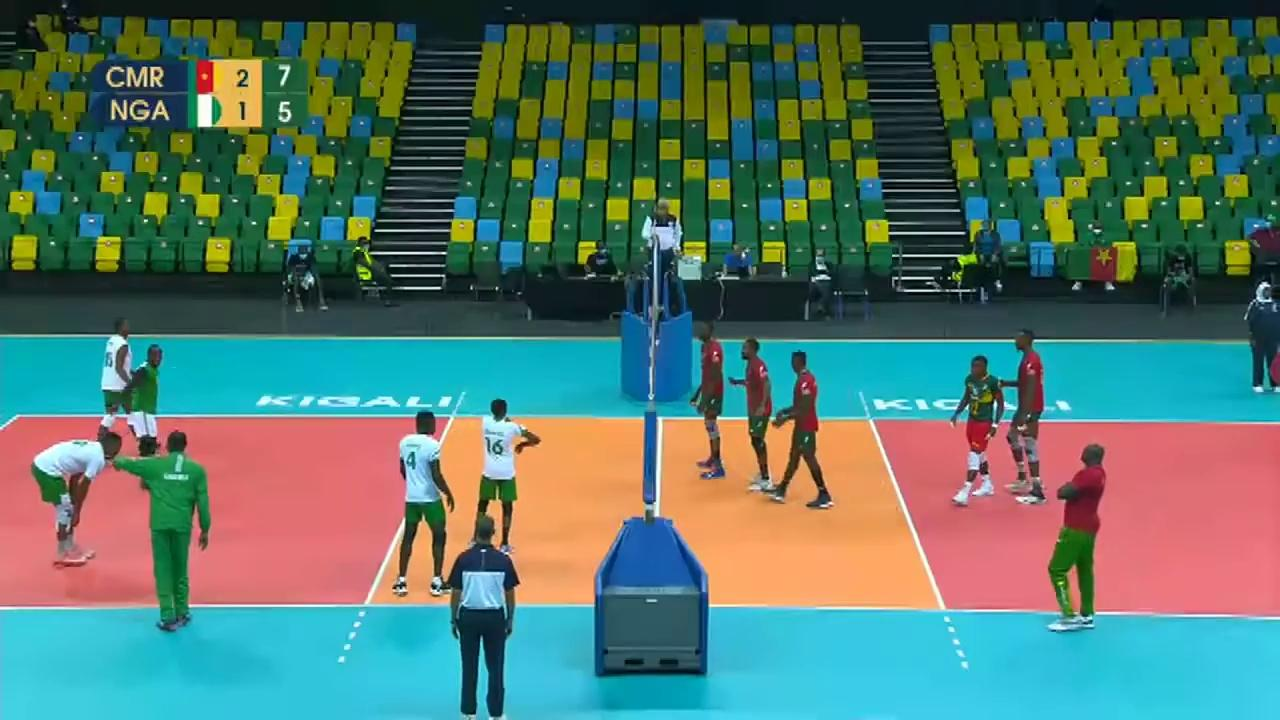player: (29, 433, 123, 565), (762, 351, 834, 504), (392, 412, 450, 591), (475, 398, 537, 552), (947, 356, 1008, 504), (1005, 331, 1058, 499), (97, 316, 147, 459), (733, 339, 776, 485), (693, 321, 732, 480), (124, 344, 166, 485)
refree: (444, 514, 522, 720), (1241, 278, 1280, 392), (643, 202, 684, 306)
